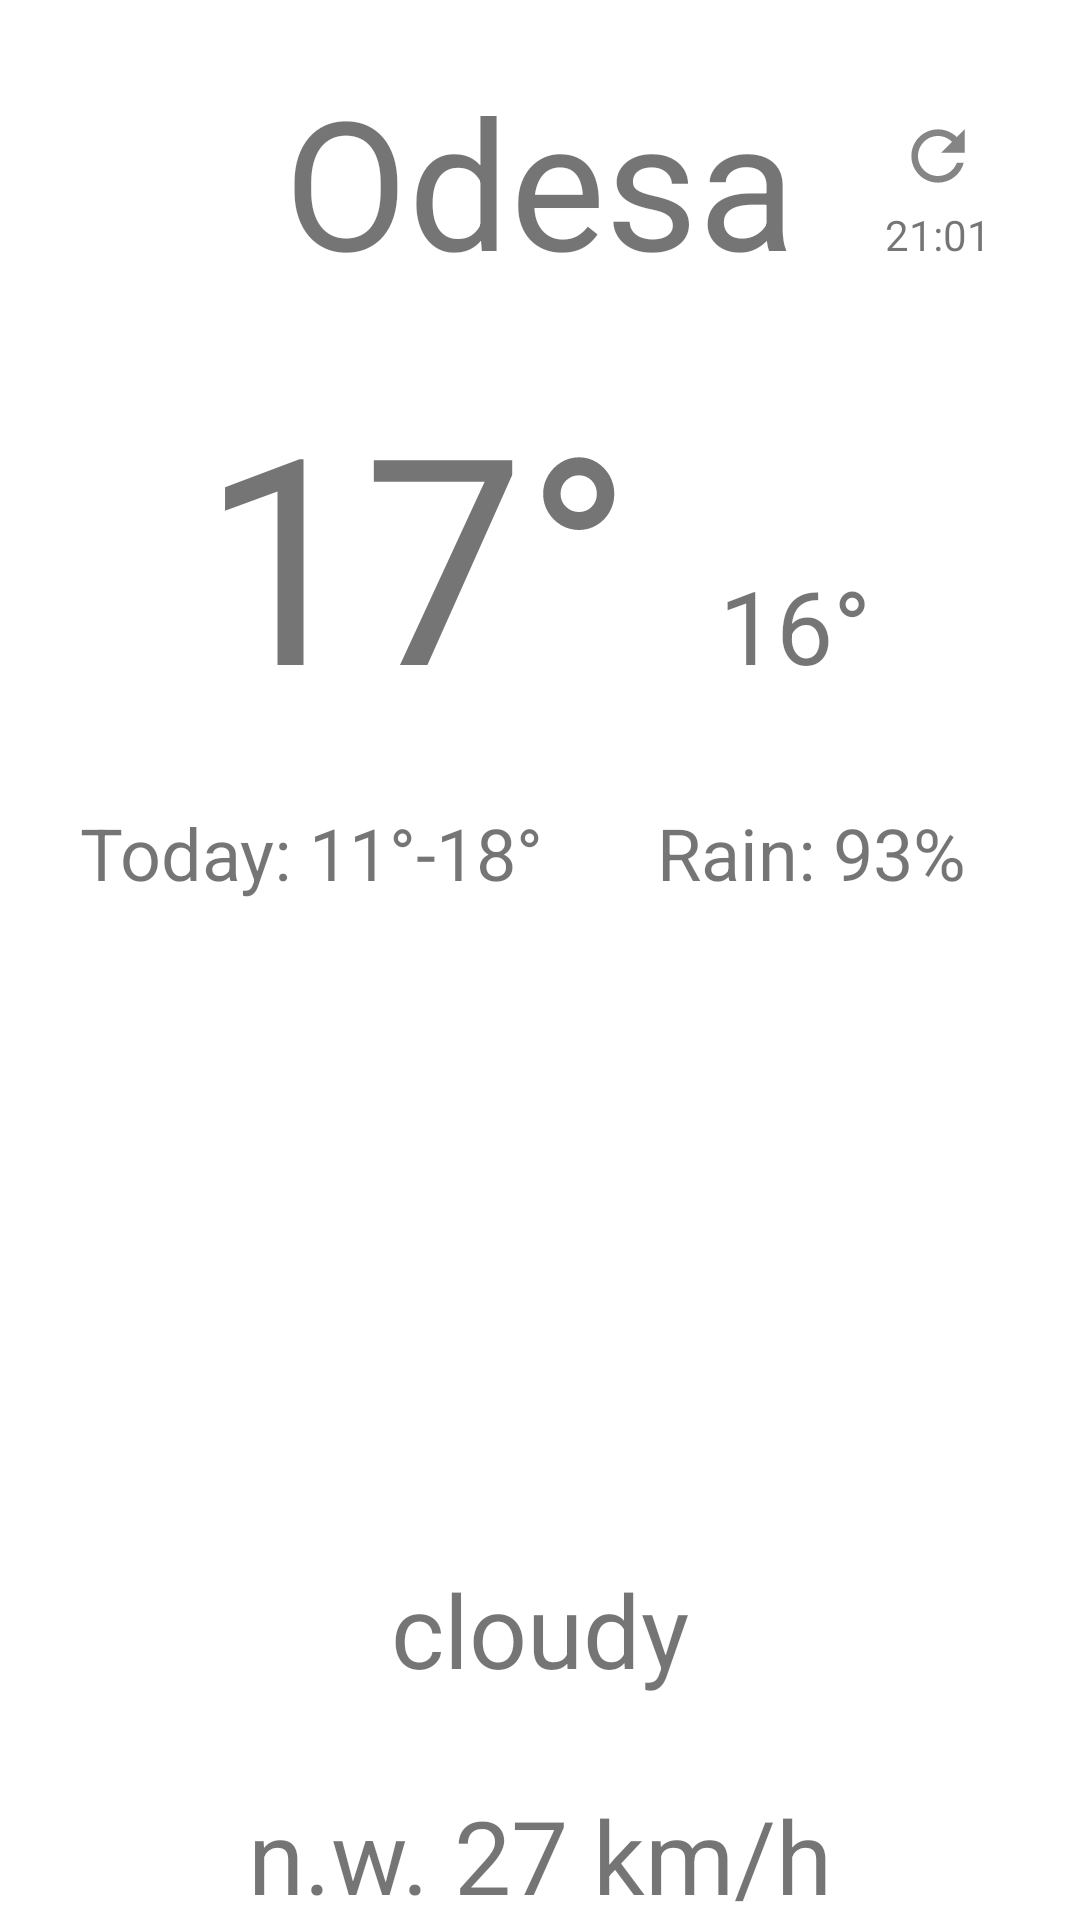

Where to tap for icons on this 1080x1920 app screen, as point (x, y):
update info: point (938, 156)
